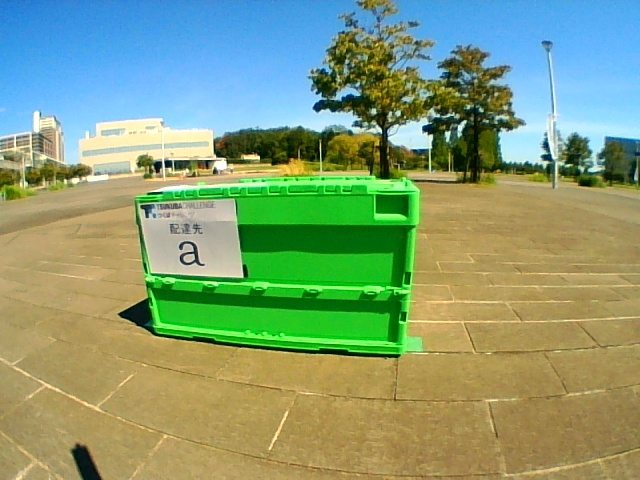green_box: (137, 178, 408, 336)
tag_a: (149, 202, 235, 273)
